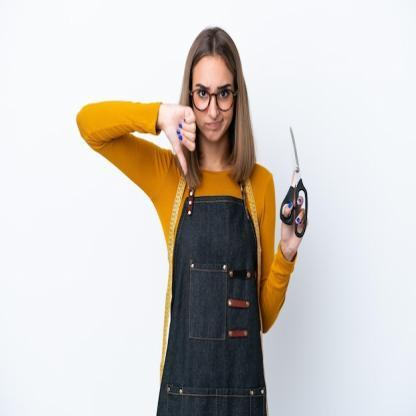thumb_down: (166, 102, 198, 176)
